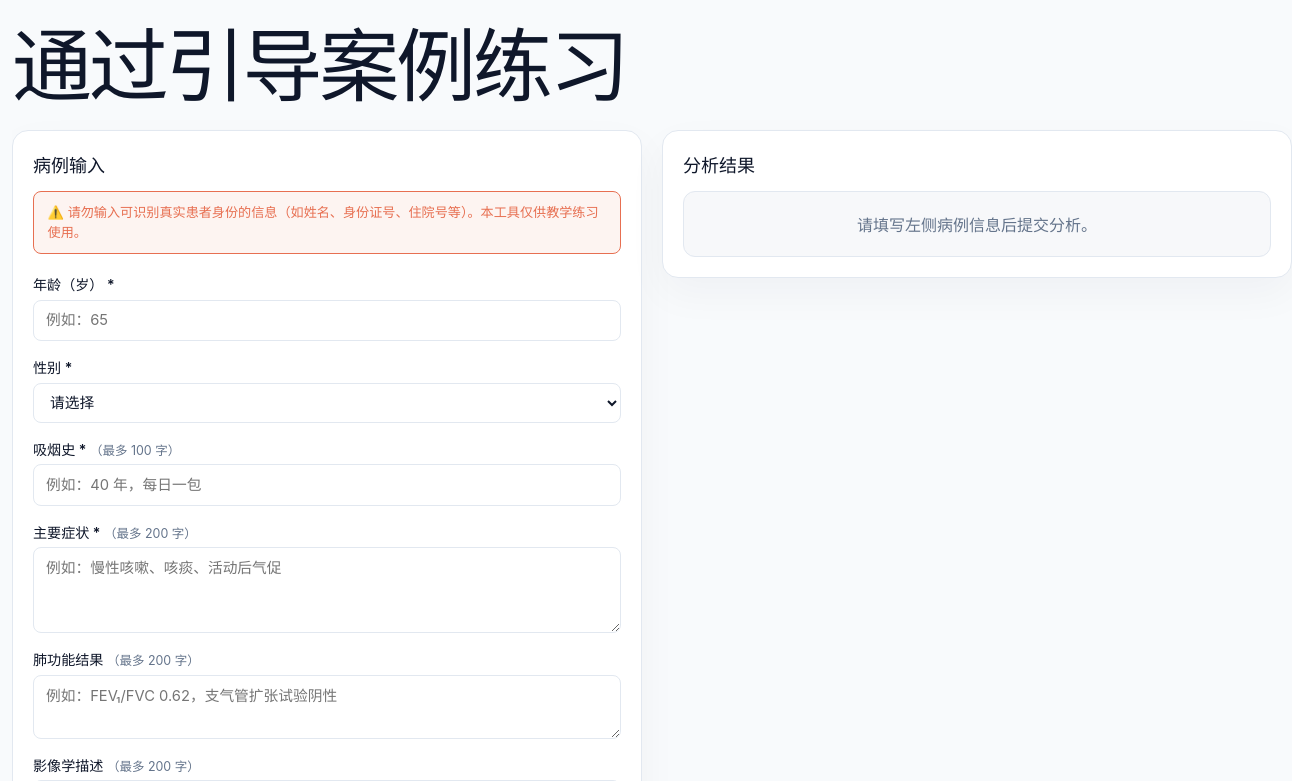
AIDiagnosisPage › enables submit when required fields are filled
The image size is (1292, 781).
Type "65" into the field with placeholder "例如：65" at (327, 321), box [33,300,621,341]
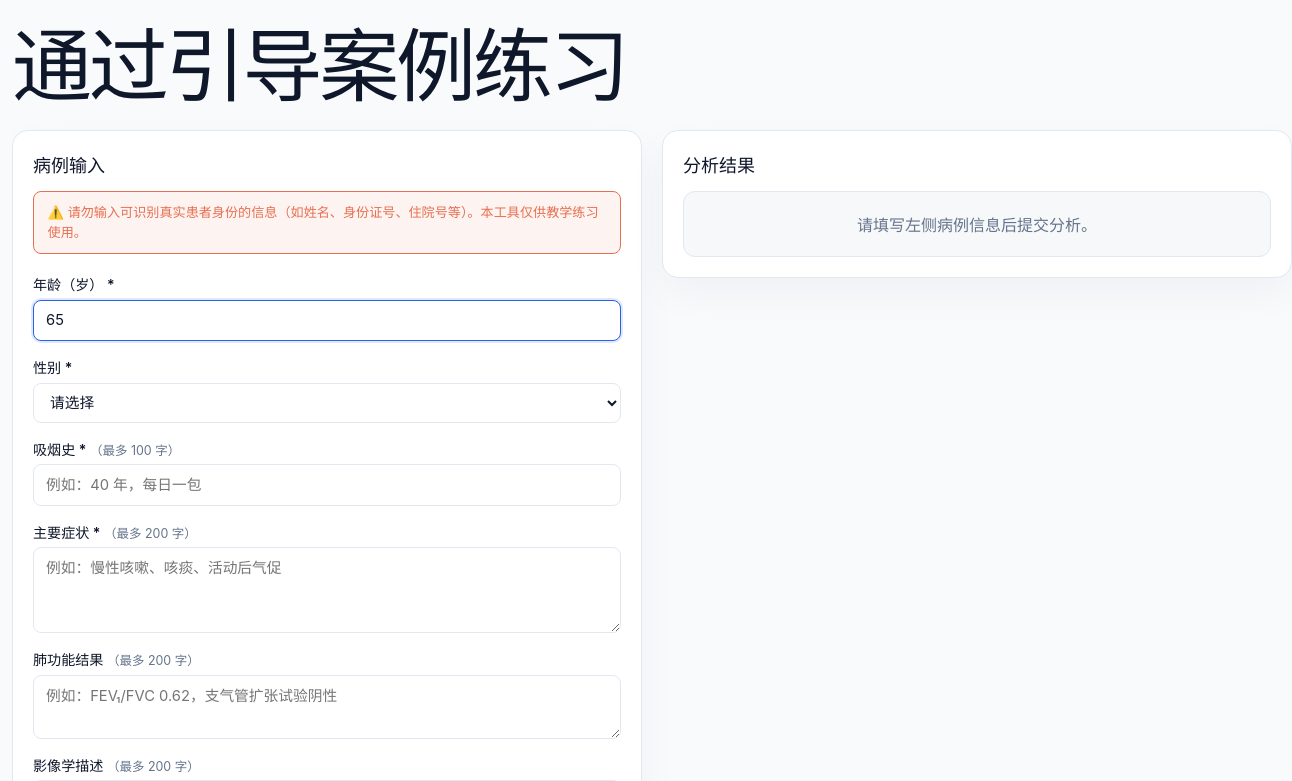
Select "男性" in the dropdown at (327, 403), box [33,383,621,422]
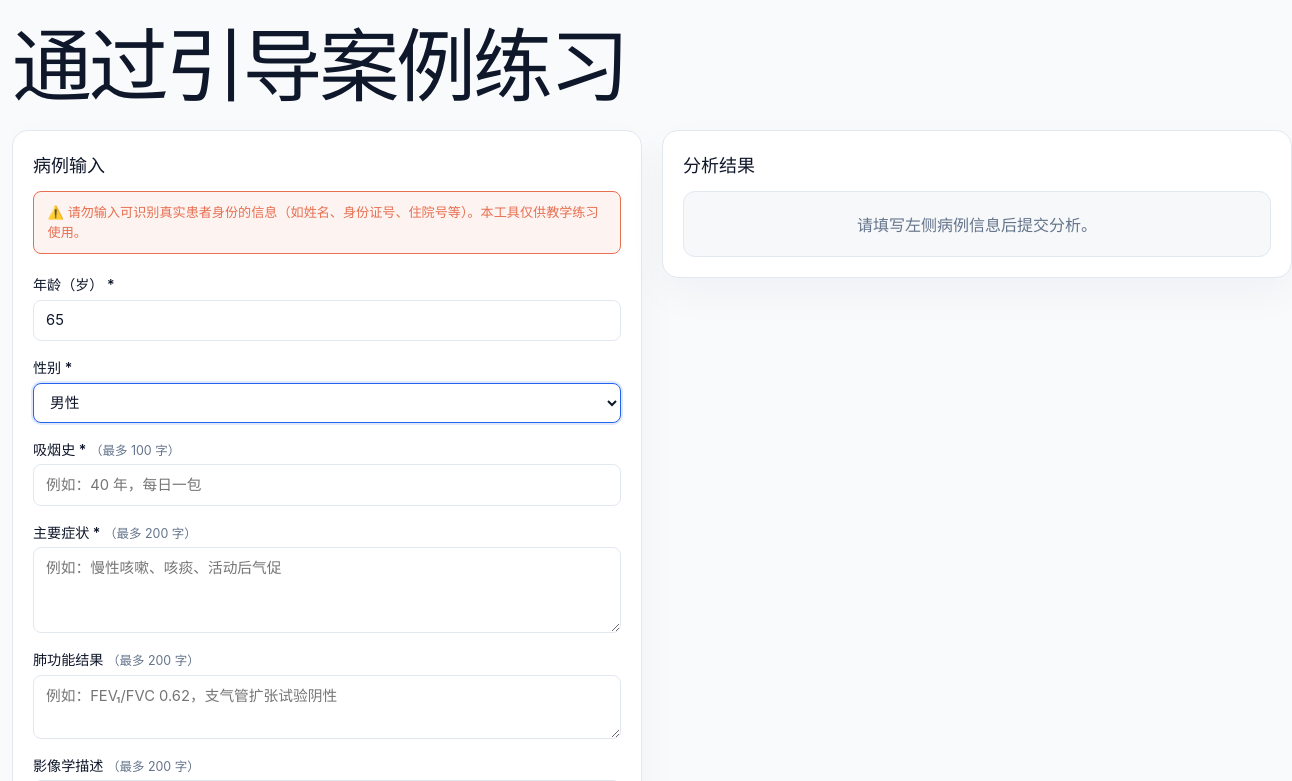
Type "40 年，每日一包" into the field with placeholder "例如：40 年，每日一包" at (327, 485), box [33,464,621,506]
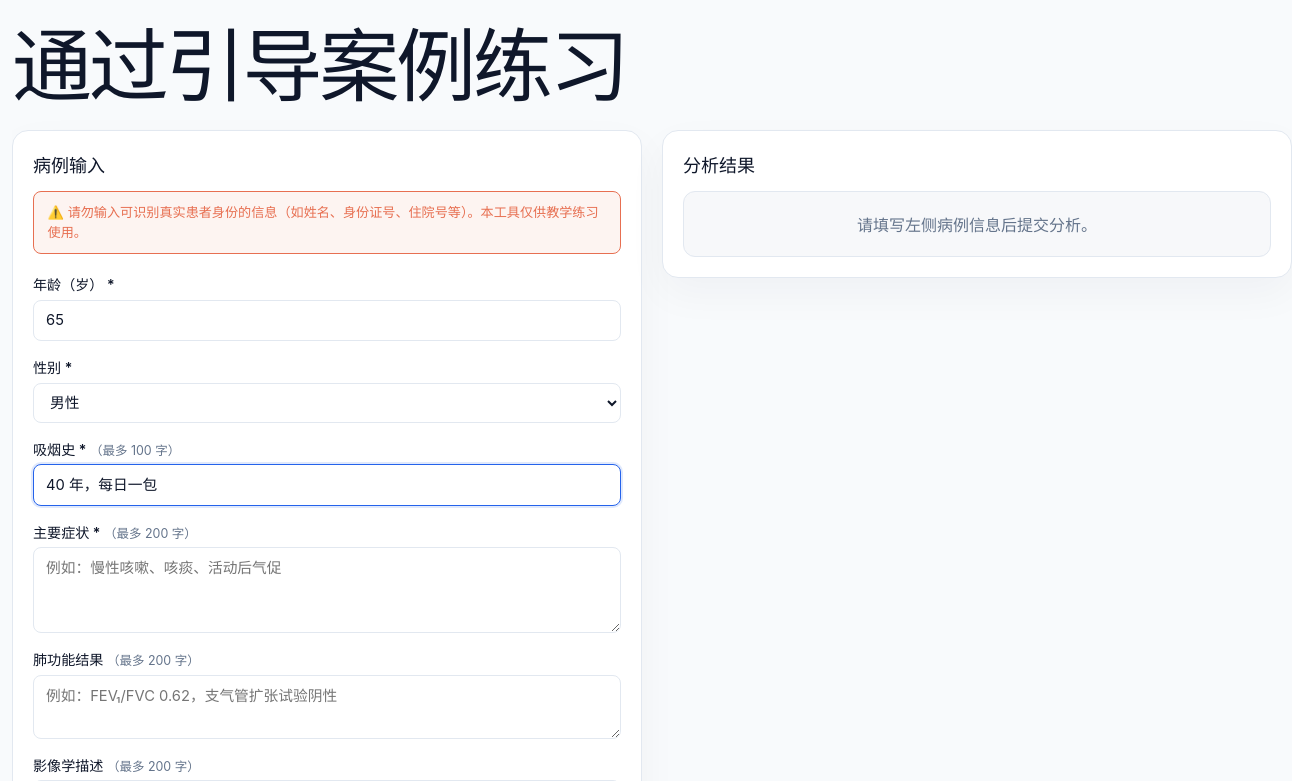
Type "慢性咳嗽，咳痰" into the text box with placeholder "例如：慢性咳嗽、咳痰、活动后气促" at (327, 590), box [33,547,621,633]
(page scrolled)
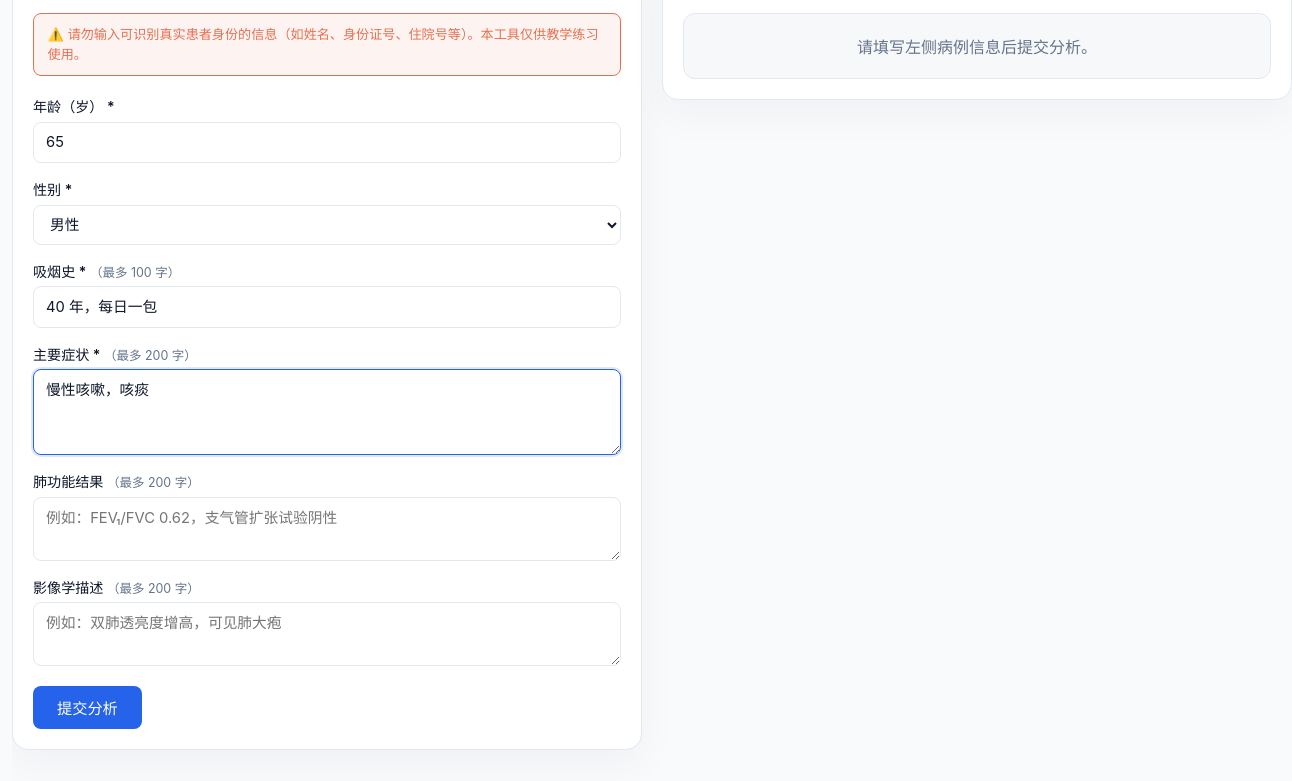
Check: the button "提交分析" is enabled, box [33,686,142,729]
